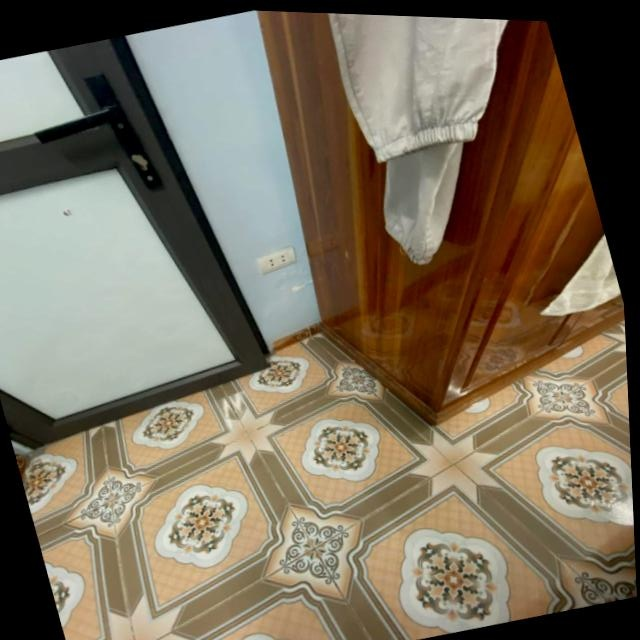outlet: (253, 245, 299, 278)
